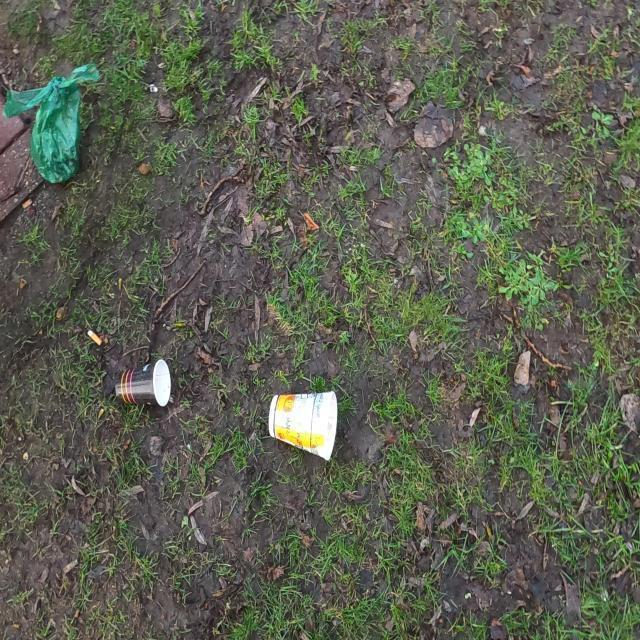Cup: (268, 390, 338, 462), (114, 358, 172, 408)
